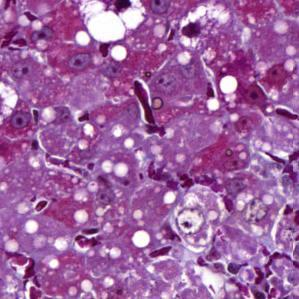ballooning: (75, 2, 149, 46), (177, 3, 233, 50)
